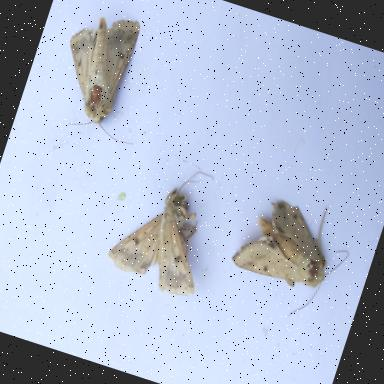abw: (218, 181, 362, 330), (100, 148, 232, 304), (42, 1, 169, 149)
